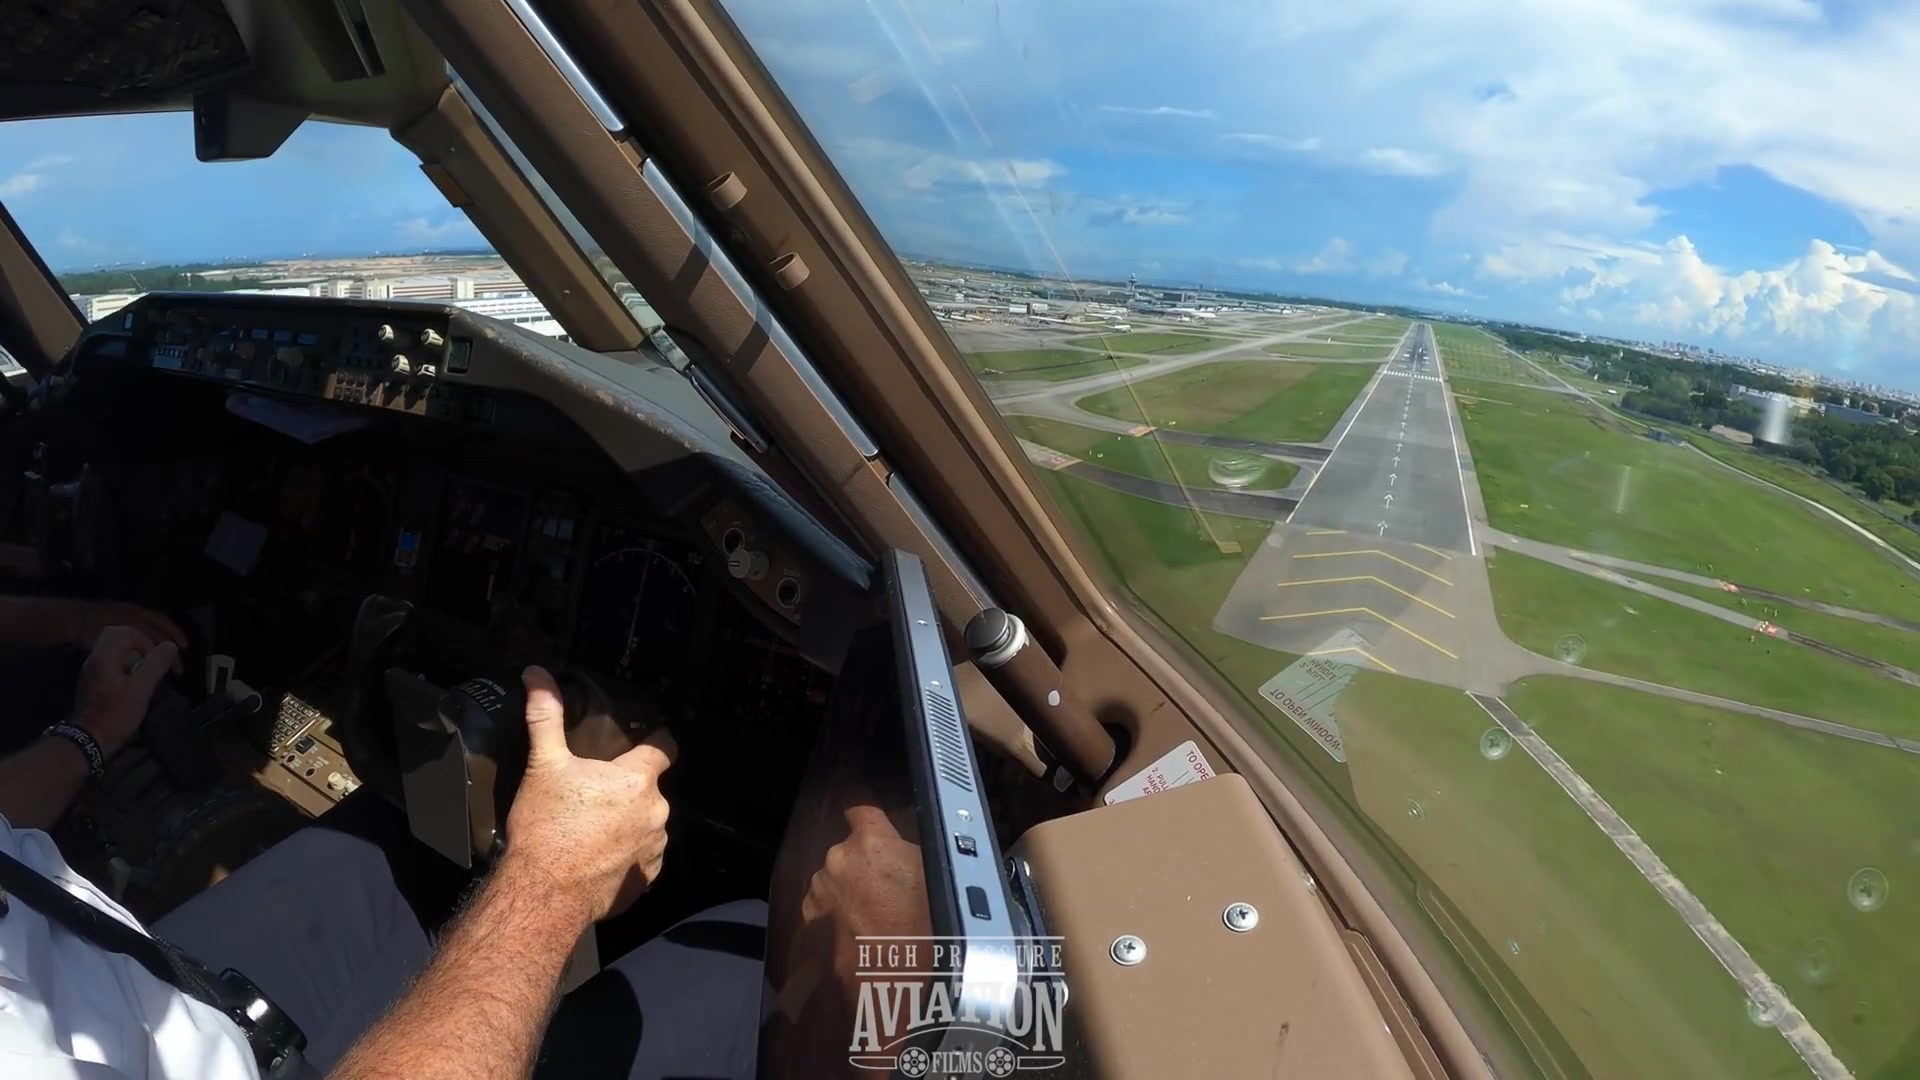entrance: (1379, 367, 1443, 385)
runway: (1280, 322, 1480, 560)
